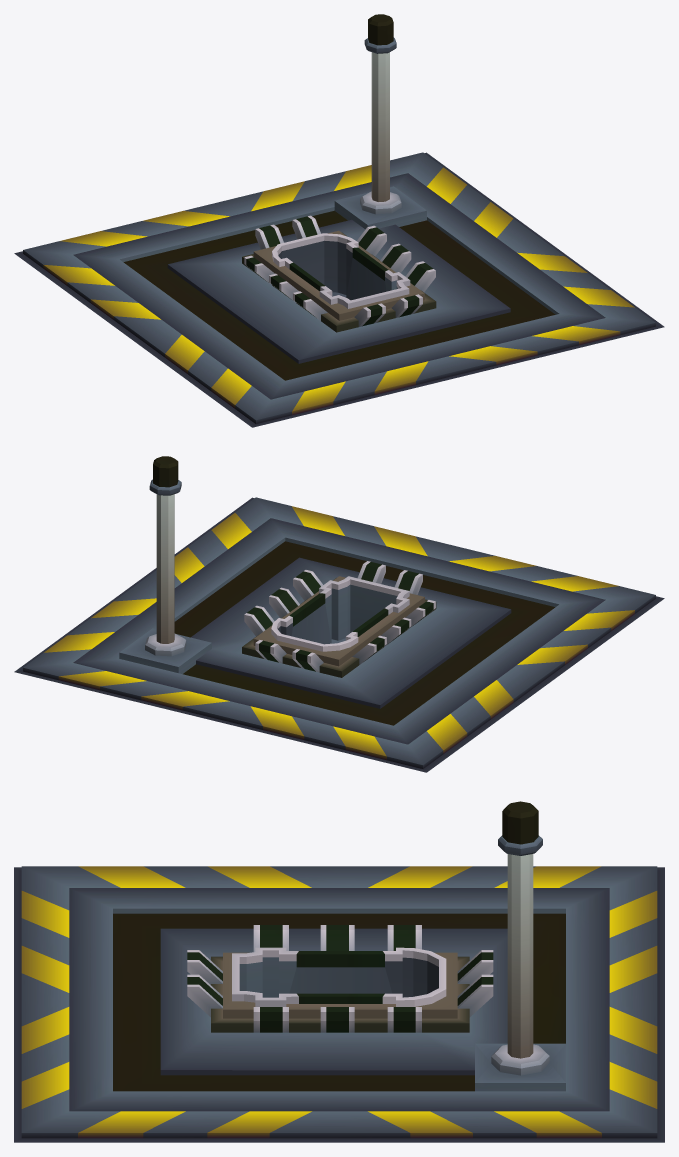
Rendered from Socket_Node_Piso.fbx.
3 renders of one model, top to bottom at view 1: azimuth 30°, elevation 25°; view 2: azimuth 150°, elevation 25°; view 3: azimuth 270°, elevation 25°, orthographic. The views are drawn at different scales.
Parts seen in each view (by area): view 1: Socket_Nodo_Piso; view 2: Socket_Nodo_Piso; view 3: Socket_Nodo_Piso.
Part boxes in pixels (left/top/right/bottom): Socket_Nodo_Piso: left=14, top=14, right=664, bottom=427; Socket_Nodo_Piso: left=14, top=456, right=664, bottom=772; Socket_Nodo_Piso: left=14, top=801, right=664, bottom=1142.
Size of the model in its own units: 100 by 53.36 by 100.
